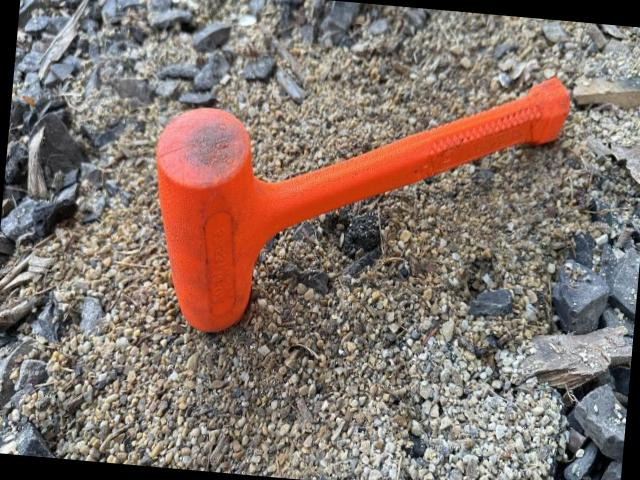hammer: (140, 45, 574, 359)
